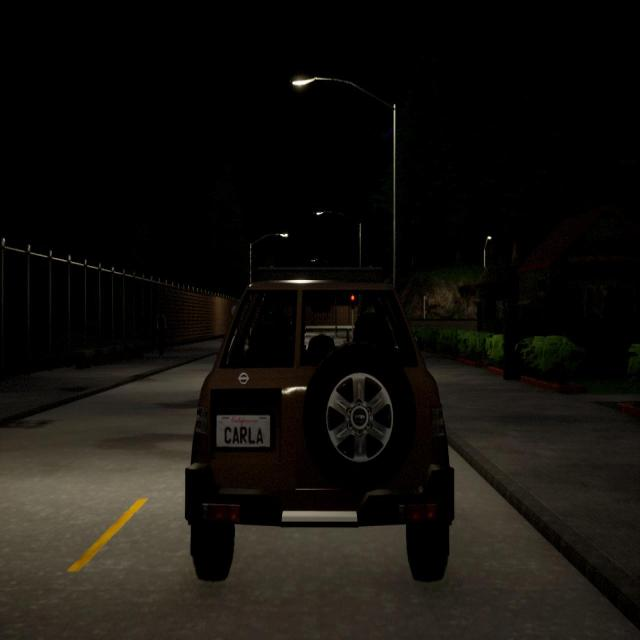Pedestrian: (154, 308, 169, 361)
Traffic_Signs: (229, 305, 239, 317)
Vehicle: (185, 268, 454, 581)
traffic_light: (350, 291, 356, 310)
